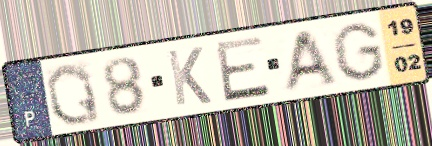8: (99, 55, 148, 118)
A: (280, 26, 340, 96)
E: (212, 33, 274, 105)
G: (329, 20, 388, 83)
K: (164, 44, 215, 108)
Q: (43, 61, 104, 128)
